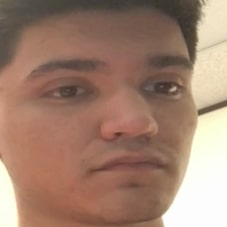awake: (20, 48, 200, 195)
